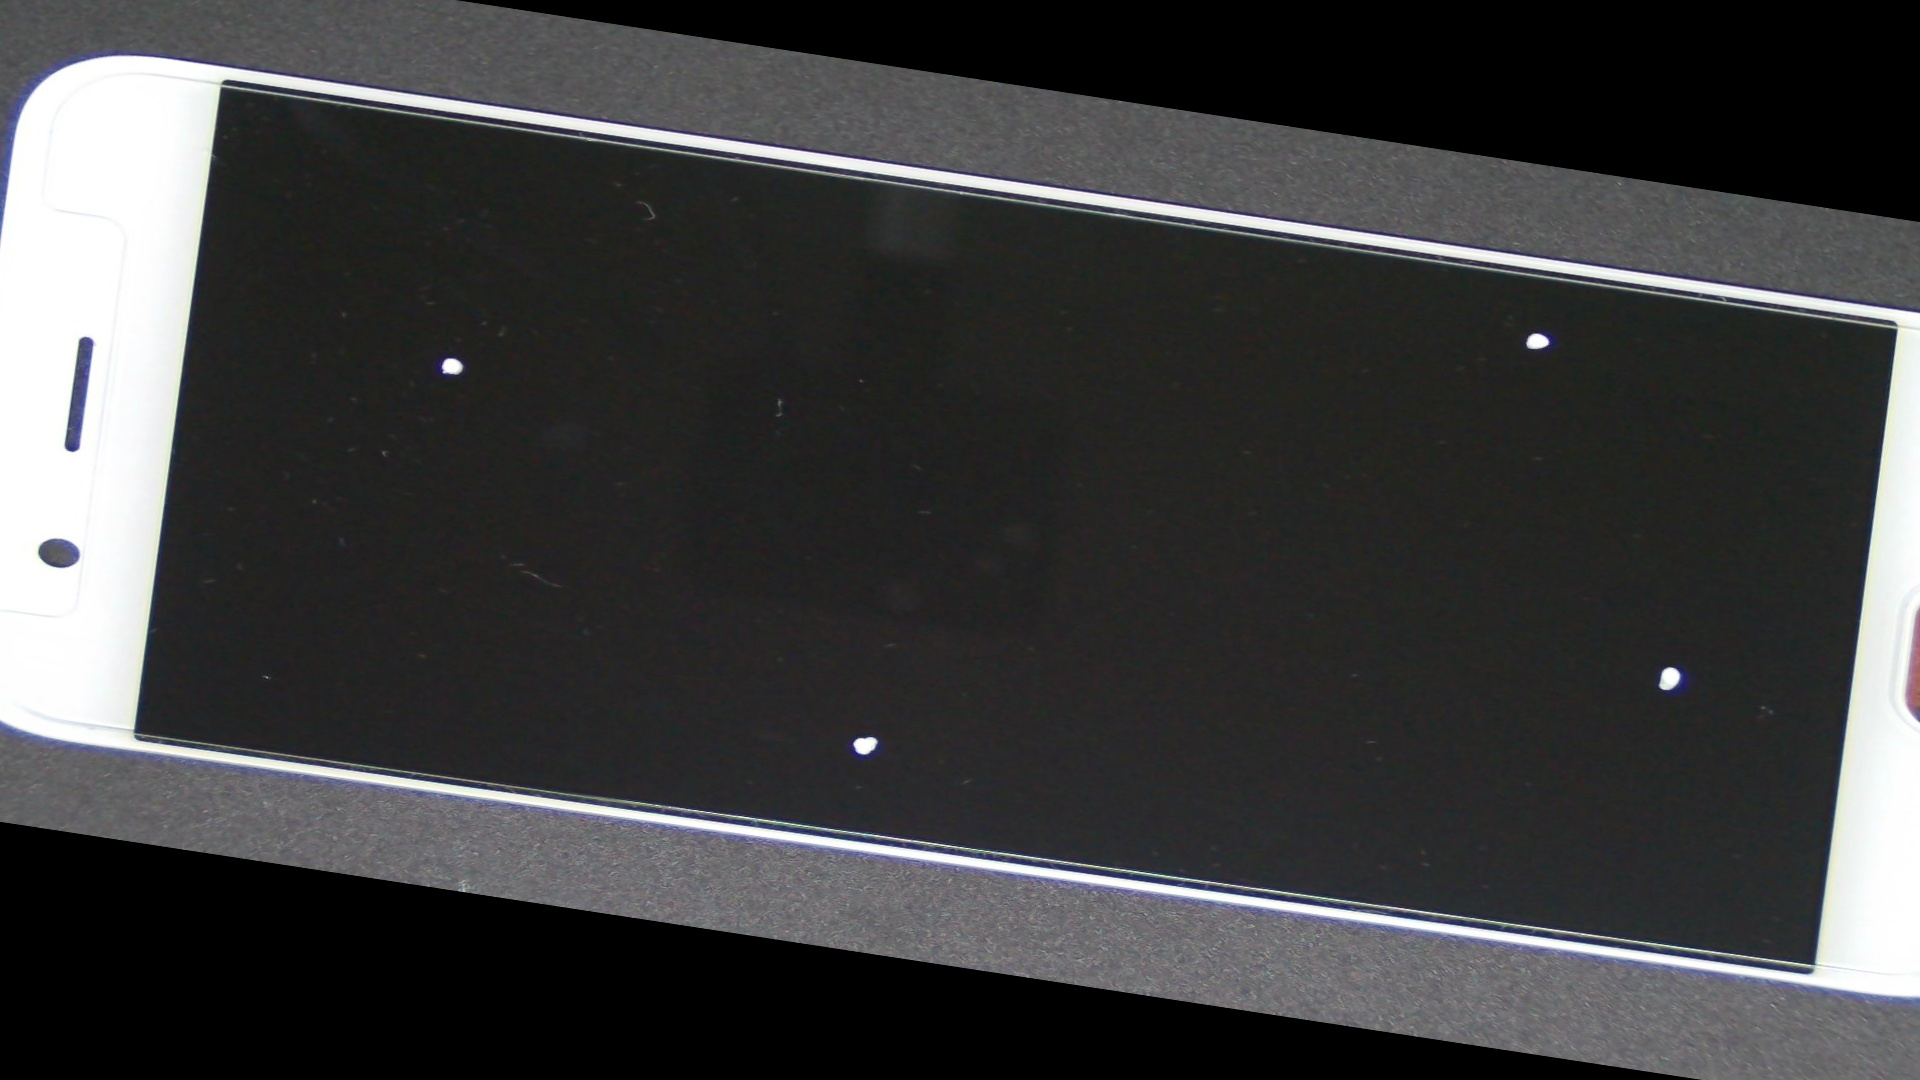oil: (737, 294, 1920, 969), (327, 328, 1433, 1027), (716, 125, 1920, 509), (148, 138, 761, 574)
